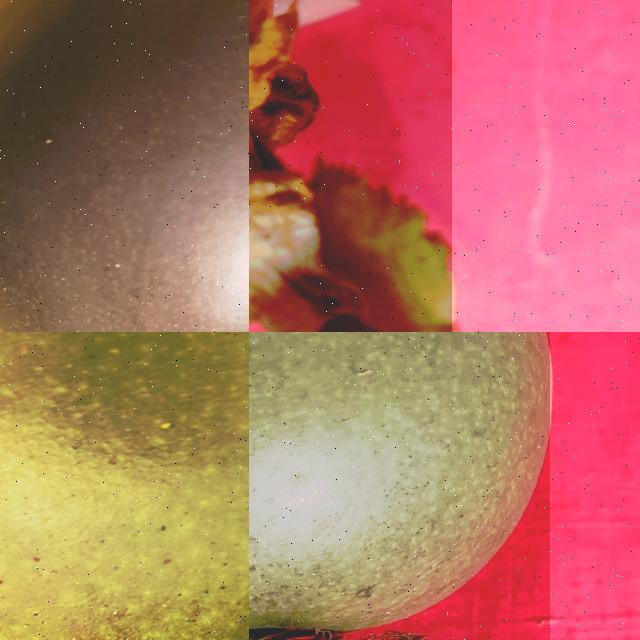Estado-1: (249, 332, 550, 640), (0, 332, 249, 640)
Estado-2: (249, 0, 452, 332)
